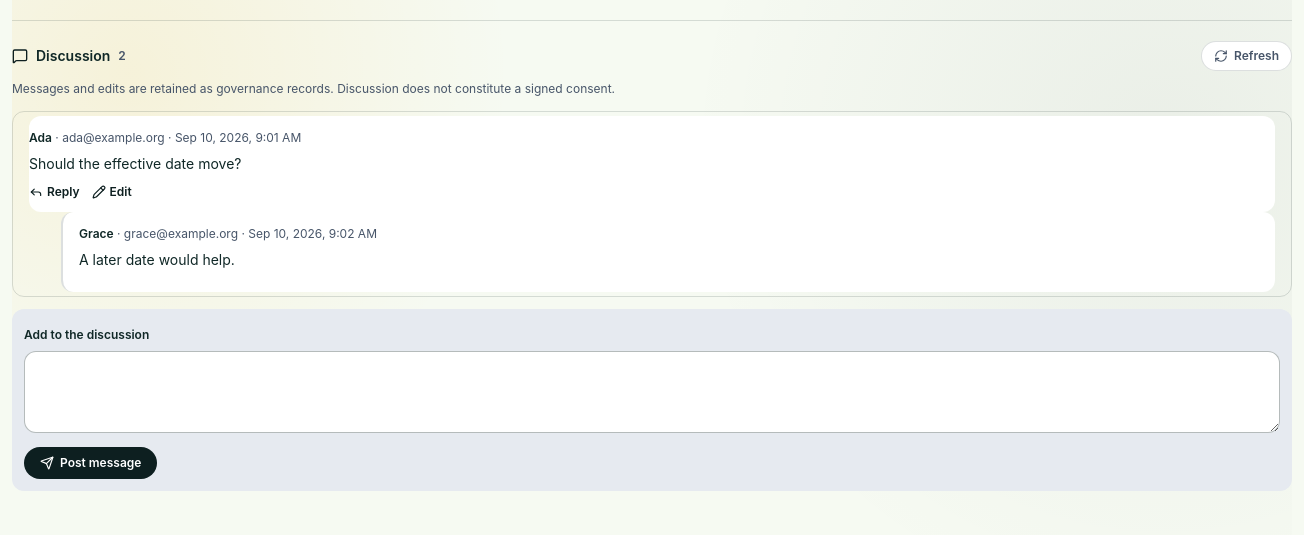
Scenario: BallotDiscussion › renders retained threads and posts a passkey-protected message
The width and height of the screenshot is (1304, 535).
Check: the text "Should the effective date move?" is shown, box [29,155,242,172]
Check: the text "A later date would help." is shown, box [79,251,235,268]
In the text box labelled "Add to the discussion": (652, 392) [24,351,1280,433], type "I suggest October 1."
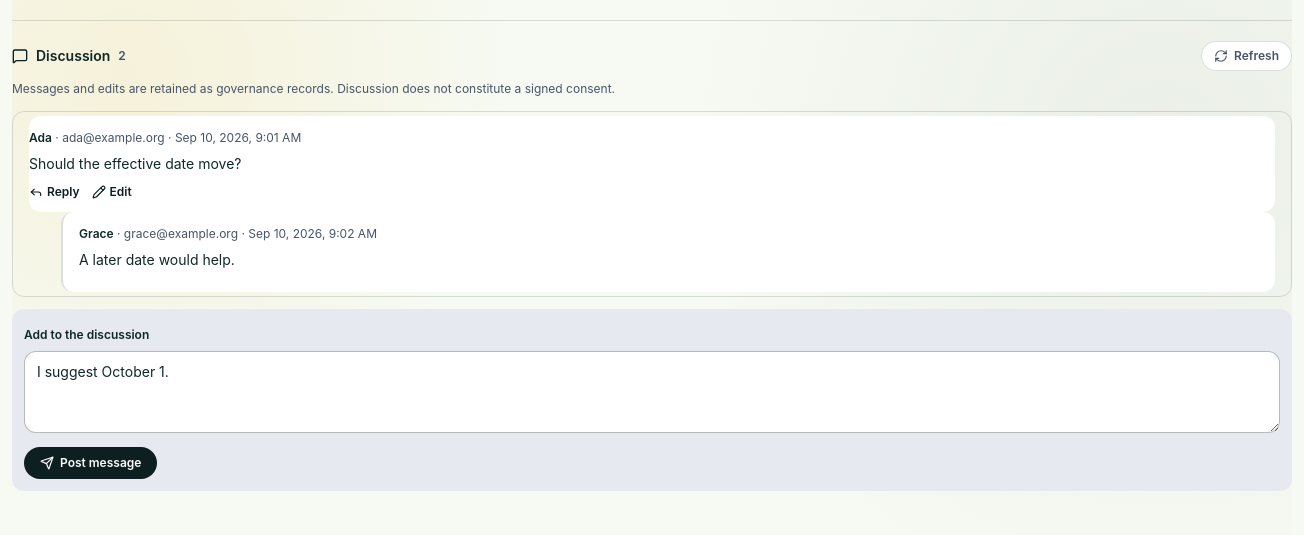
Click the button "Post message": click(91, 463) [24,447,157,479]
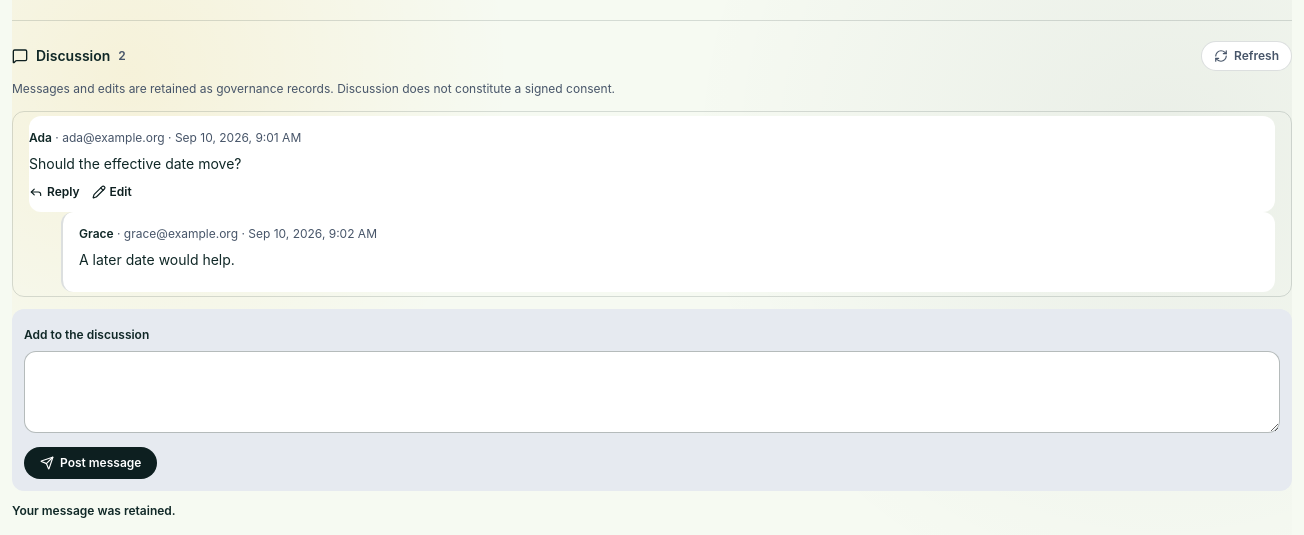
Check: the text "Your message was retained." is shown, box [12,503,176,518]
